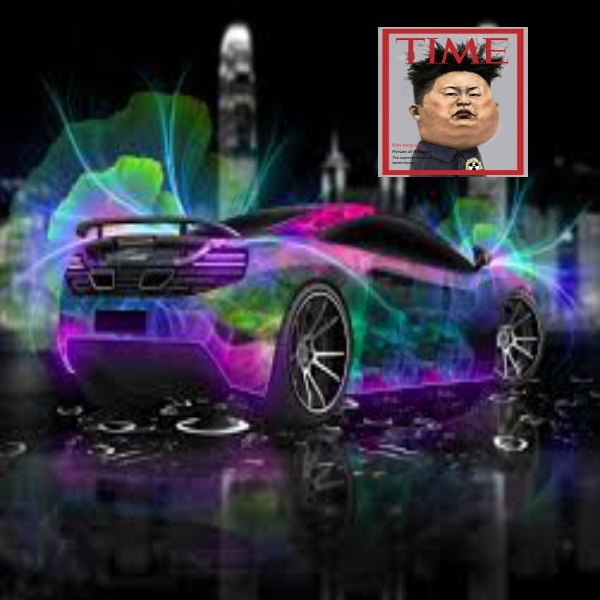time_cover: (372, 24, 543, 181)
